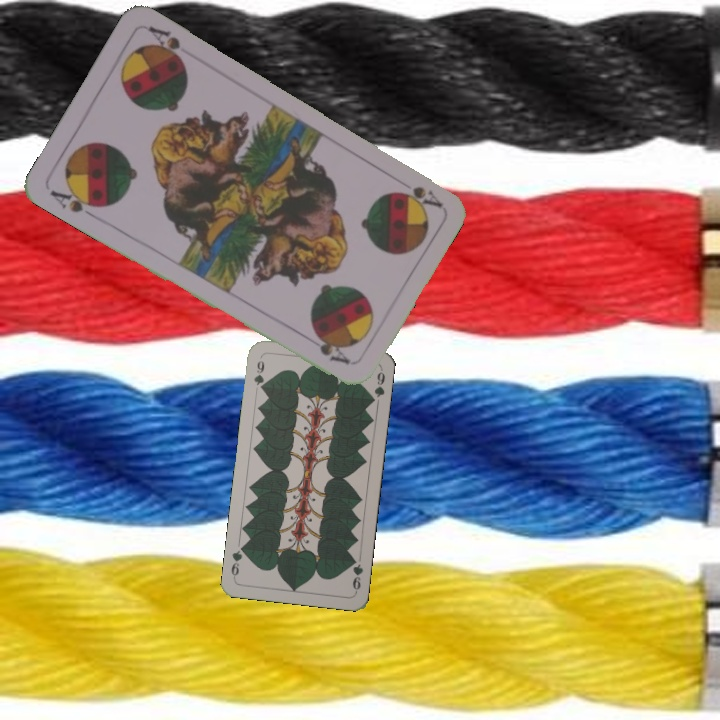G9: (347, 554, 366, 595), (250, 356, 267, 394)
SA: (45, 182, 105, 222), (396, 182, 445, 210)
